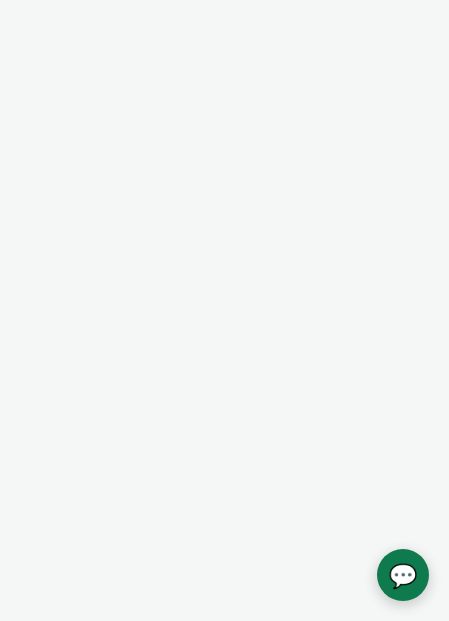
Scenario: NavigationAssistant › opens a panel with a visible voice action and typed navigation
Click the button named "Open assistant".
click(403, 575)  # box [377,549,429,601]
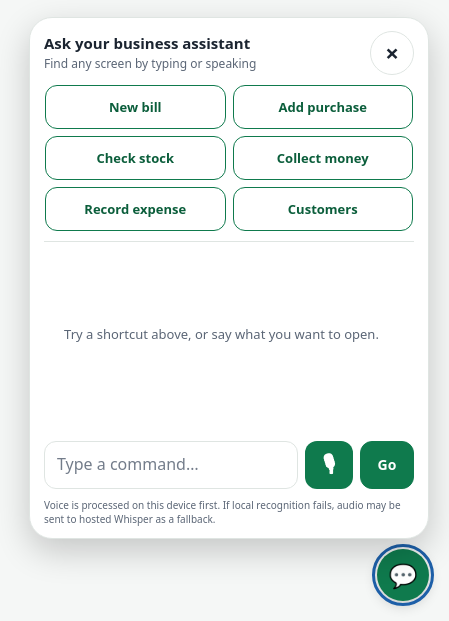
expect the button named "Start voice command" is shown: met, box [305,441,353,489]
expect the field named "Ask your business assistant" is shown: met, box [44,441,298,489]
